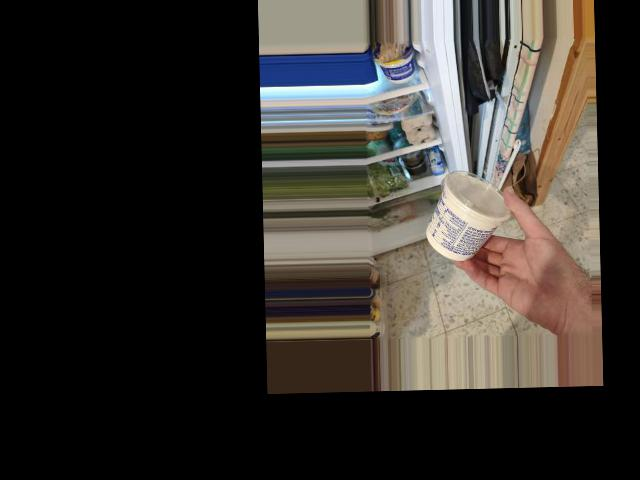cotage: (427, 169, 505, 252)
